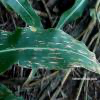Corn leaf blight: (1, 27, 99, 77)
